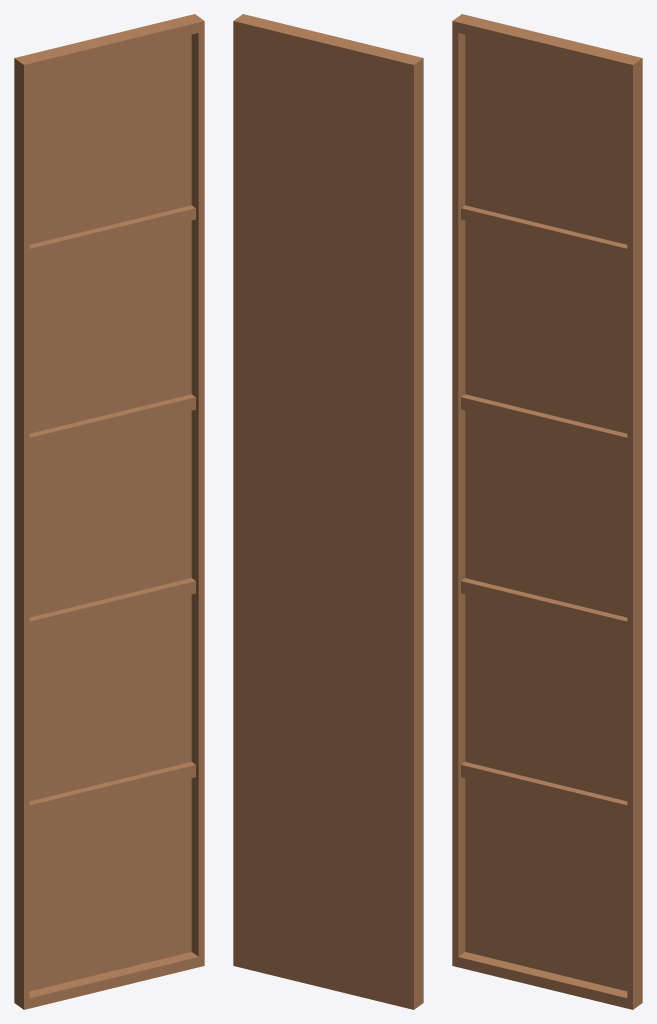
File: Panel10by2.fbx
3 renders of one model, left to right at view 1: azimuth 30°, elevation 25°; view 2: azimuth 150°, elevation 25°; view 3: azimuth 330°, elevation 25°, orthographic.
Visible parts, largest first — view 1: Panel10by2; view 2: Panel10by2; view 3: Panel10by2.
Boxes of the visible parts, <box> form: Panel10by2: <box>14,14,204,1009</box>; Panel10by2: <box>233,14,423,1009</box>; Panel10by2: <box>452,14,642,1009</box>.
Bounding box in the file's own units: 56.06 × 5.16 × 280.
